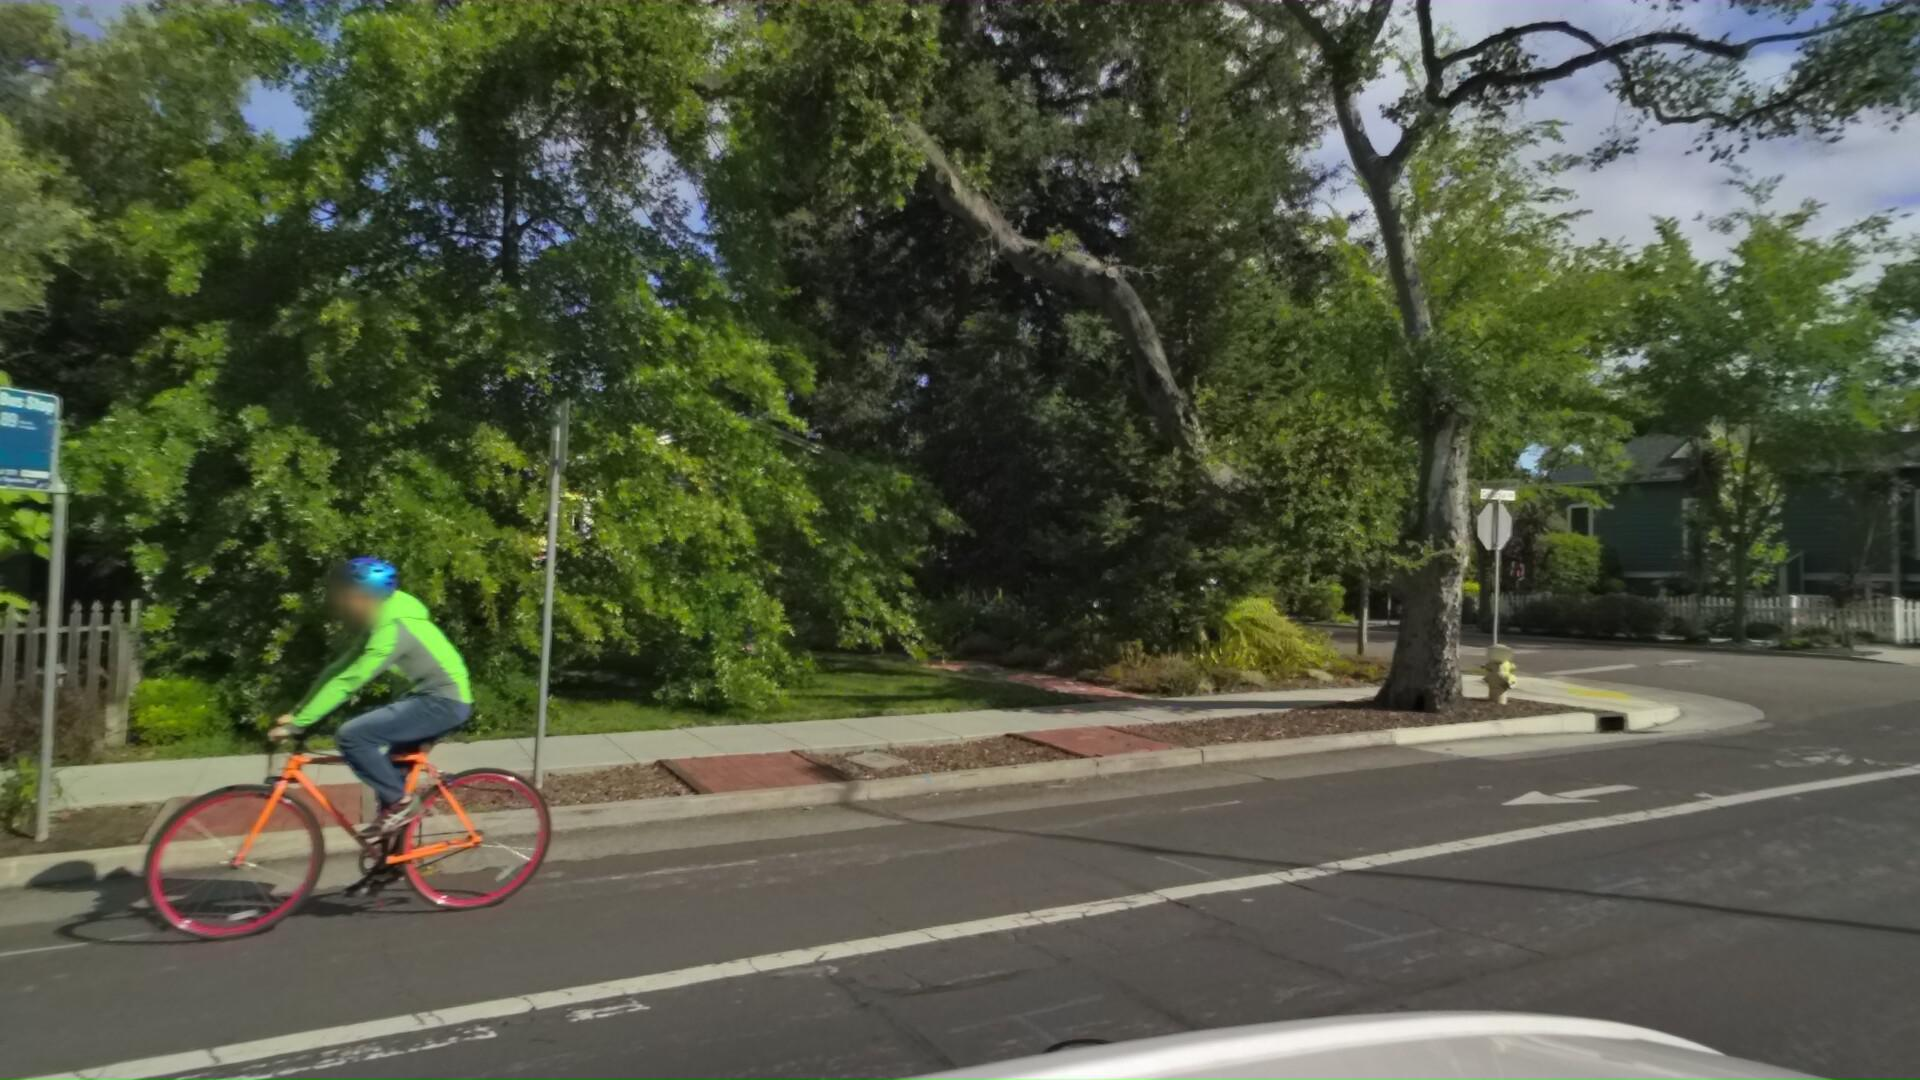bicycle: (0, 545, 464, 1038)
